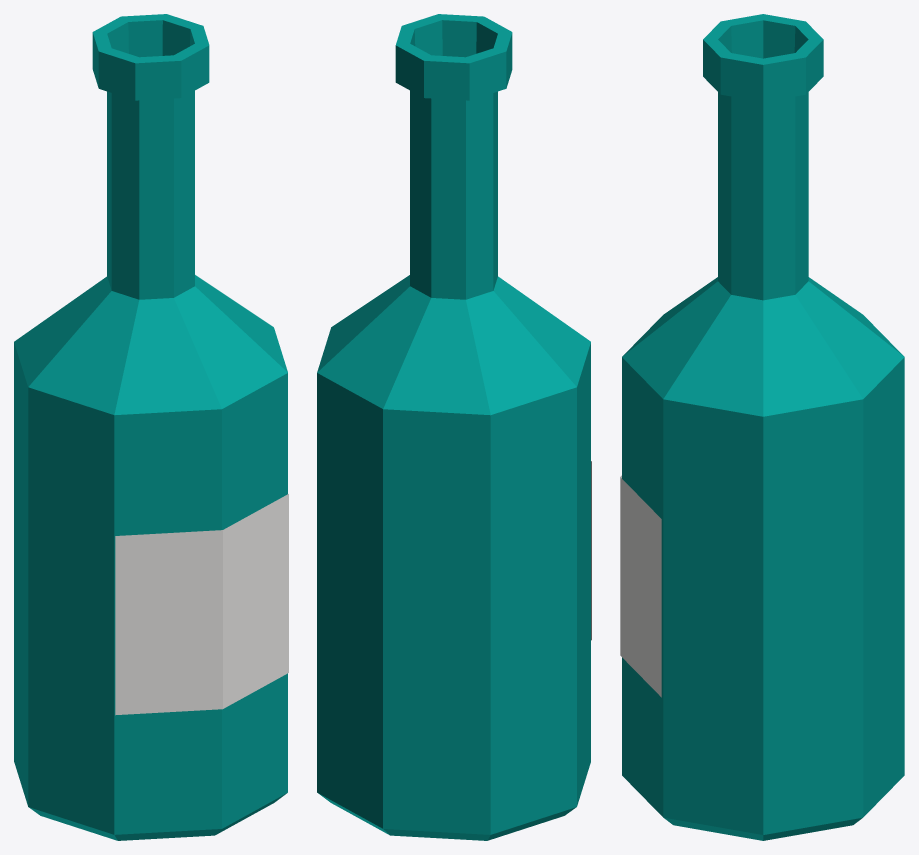
Rendered from Bottle_2.fbx.
3 views of the same model, side by side, from view 1: azimuth 30°, elevation 25°; view 2: azimuth 150°, elevation 25°; view 3: azimuth 270°, elevation 25° (orthographic).
Parts seen in each view (by area): view 1: Bottle_2; view 2: Bottle_2; view 3: Bottle_2.
Boxes of the visible parts, x1,y1,x2,y2 form: Bottle_2: [14, 14, 288, 840]; Bottle_2: [317, 14, 591, 840]; Bottle_2: [620, 14, 904, 840].
Bounding box in the file's own units: 8.91 × 8.96 × 26.
